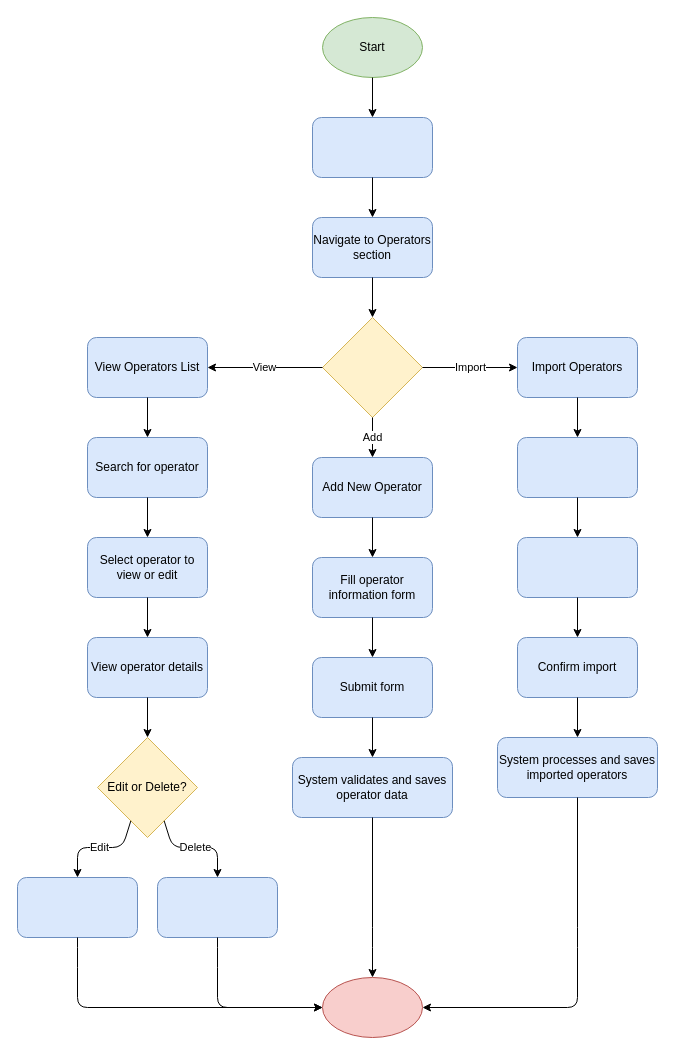
This 675x1055 diagram has some shape labels left out. The box of each missing label's shape, as (x1, y1, x2, y2) in pixels:
Admin/Staff logs in: (312, 116, 432, 178)
Delete operator: (156, 876, 278, 938)
Edit operator information: (16, 876, 138, 938)
End: (322, 976, 422, 1038)
Preview import data: (516, 536, 638, 598)
Select action: (322, 316, 422, 418)
Upload Excel file with operator data: (516, 436, 638, 498)
